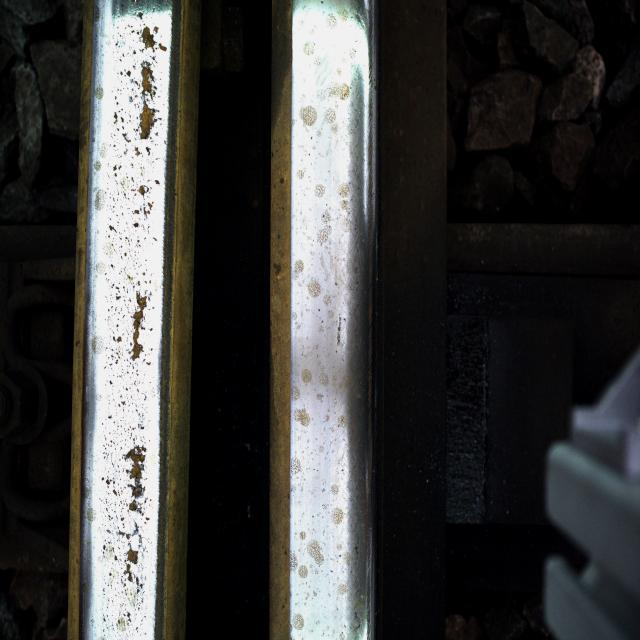scar: (302, 58, 342, 578), (107, 430, 155, 601), (129, 11, 171, 155), (118, 284, 154, 368)
